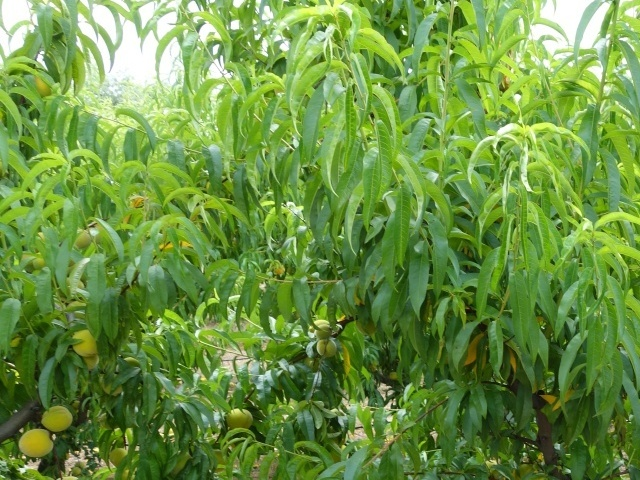peach: (15, 425, 57, 460), (38, 400, 77, 436), (69, 326, 102, 361), (96, 369, 128, 400), (224, 405, 257, 435), (75, 346, 106, 374), (353, 315, 381, 339), (314, 335, 339, 361), (71, 227, 95, 253), (310, 315, 333, 340), (27, 251, 49, 275), (107, 444, 130, 466)
